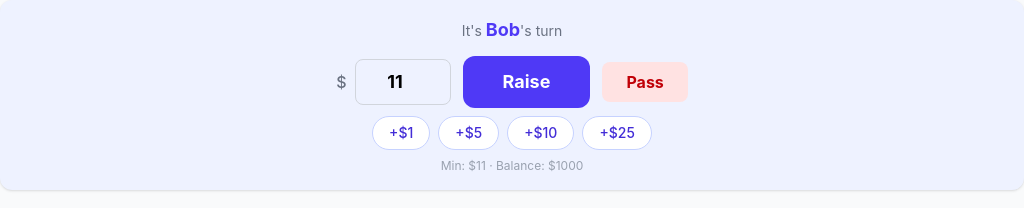
Test: BidControls › quick buttons › increments from current amount during active bidding
Step 1. Click the button "+$5" → (469,133), box [438,116,499,150]
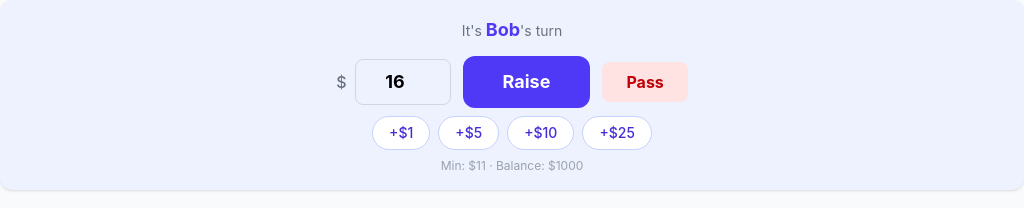
expect the number field holds "16": met, box [354,59,450,105]
